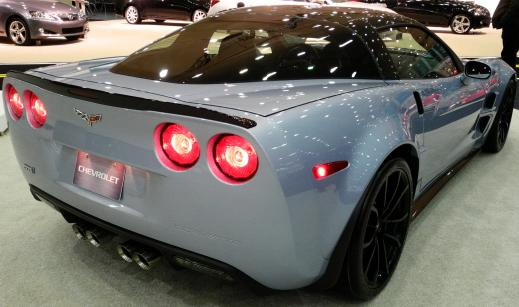back_view: (1, 67, 312, 299)
backlight: (138, 107, 266, 187)
side_glass: (362, 13, 465, 81)
